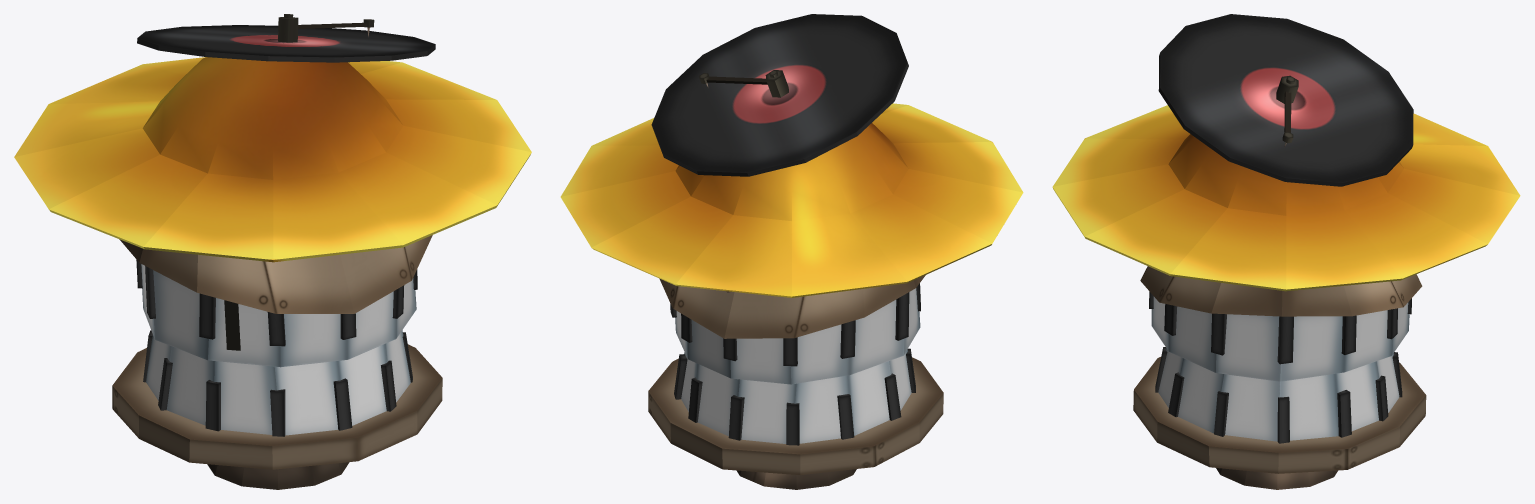
The model's file is major-player_head.glb.
3 views of the same model, side by side, from view 1: azimuth 30°, elevation 25°; view 2: azimuth 150°, elevation 25°; view 3: azimuth 270°, elevation 25° (orthographic). The views are drawn at different scales.
Parts seen in each view (by area): view 1: Object; view 2: Object; view 3: Object.
Part boxes in pixels (box(x1,y1,x2,y2)): Object: box(14, 14, 531, 489); Object: box(560, 14, 1023, 489); Object: box(1052, 14, 1520, 489).
Size of the model in its own units: 2.56 by 2.49 by 2.58.
1 material, 1 textured.
